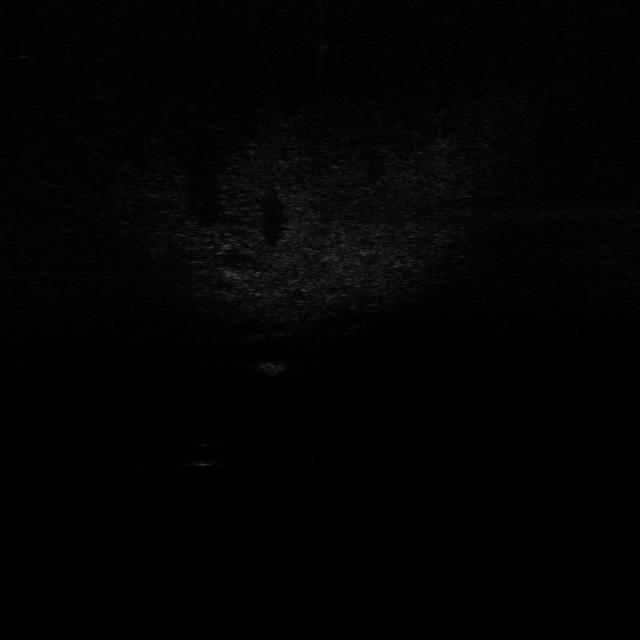ball: (182, 439, 226, 472)
cube: (252, 355, 290, 376)
